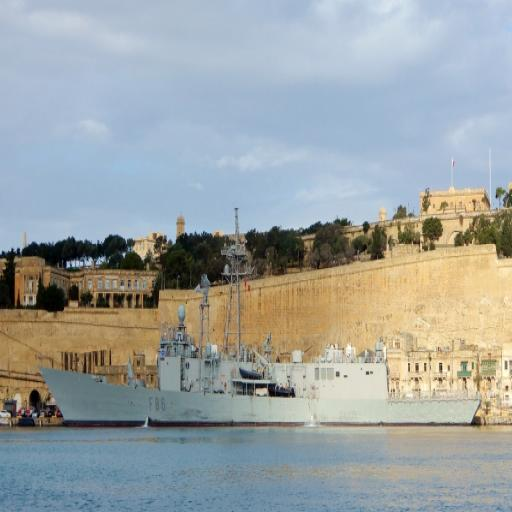Fragata: (37, 274, 487, 429)
